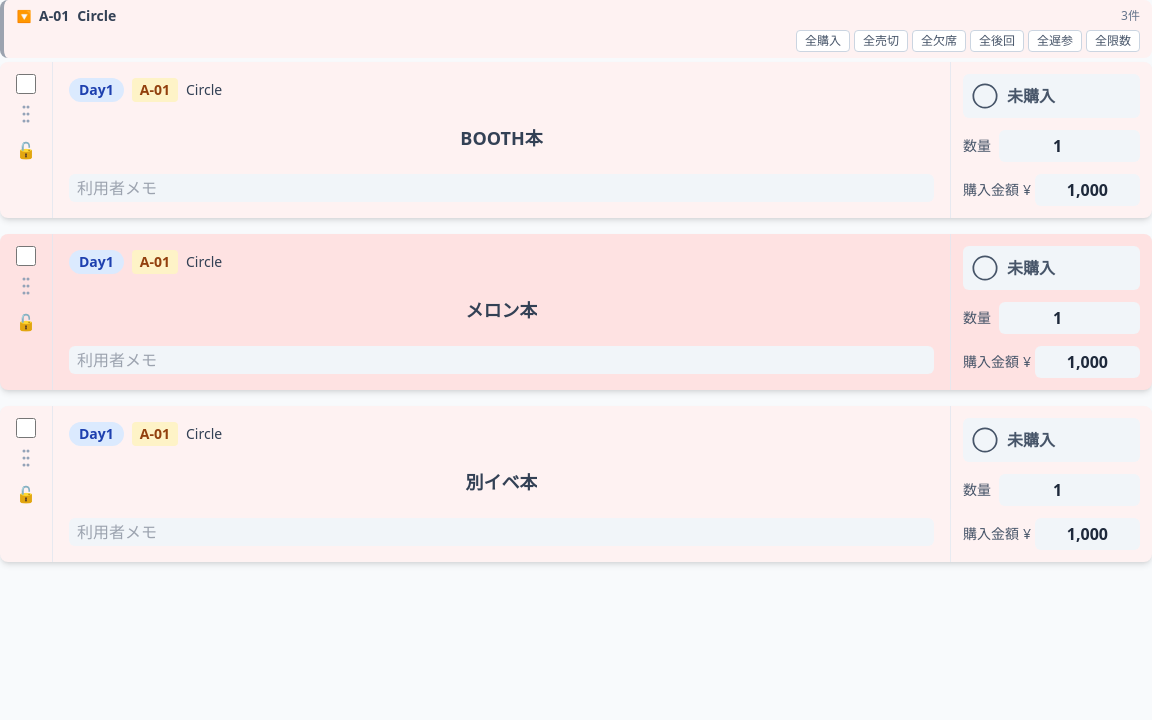
Test: ShoppingList purchase status control mode › records different post-event distribution answers for each bulk sold-out item
Click the button "全売切": (881, 41) [854,30,908,52]
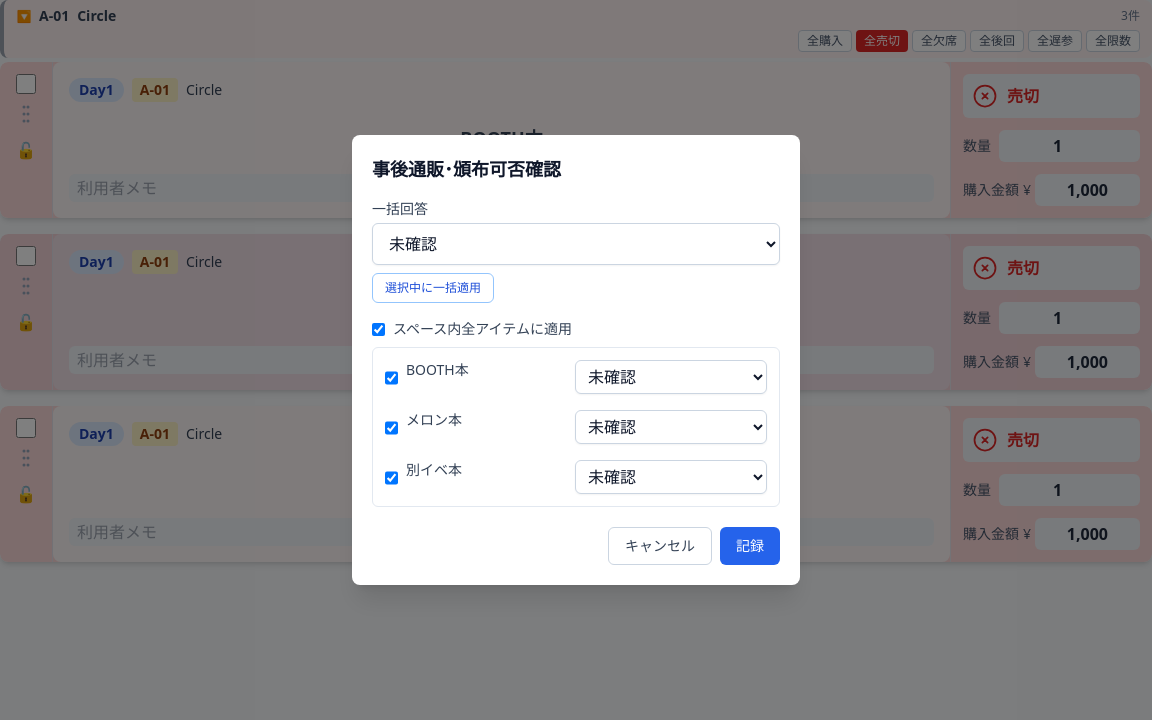
Check: the dialog "事後通販･頒布可否確認" is shown, box [352,135,800,585]
Select "BOOTH有" in the dropdown named "BOOTH本の回答内容": (671, 377) [575,360,767,394]
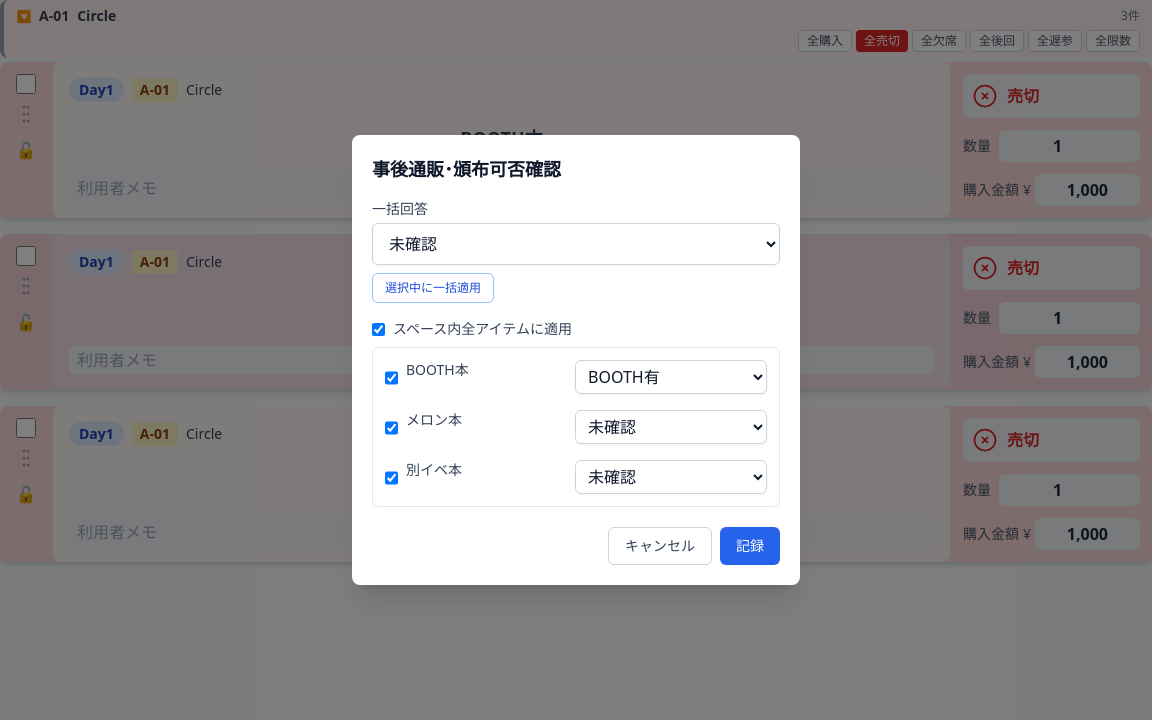
Select "通販有(メロン等)" in the dropdown named "メロン本の回答内容": (671, 427) [575,410,767,444]
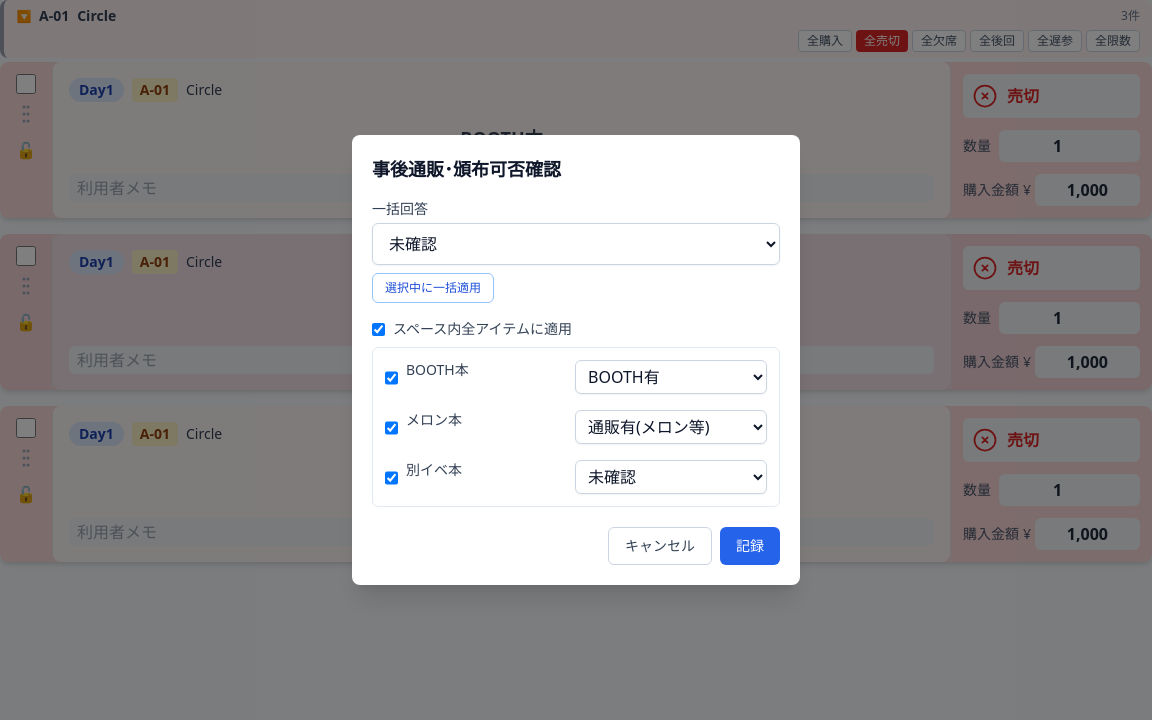
Select "別イベント頒布有" in the dropdown named "別イベ本の回答内容": (671, 477) [575,460,767,494]
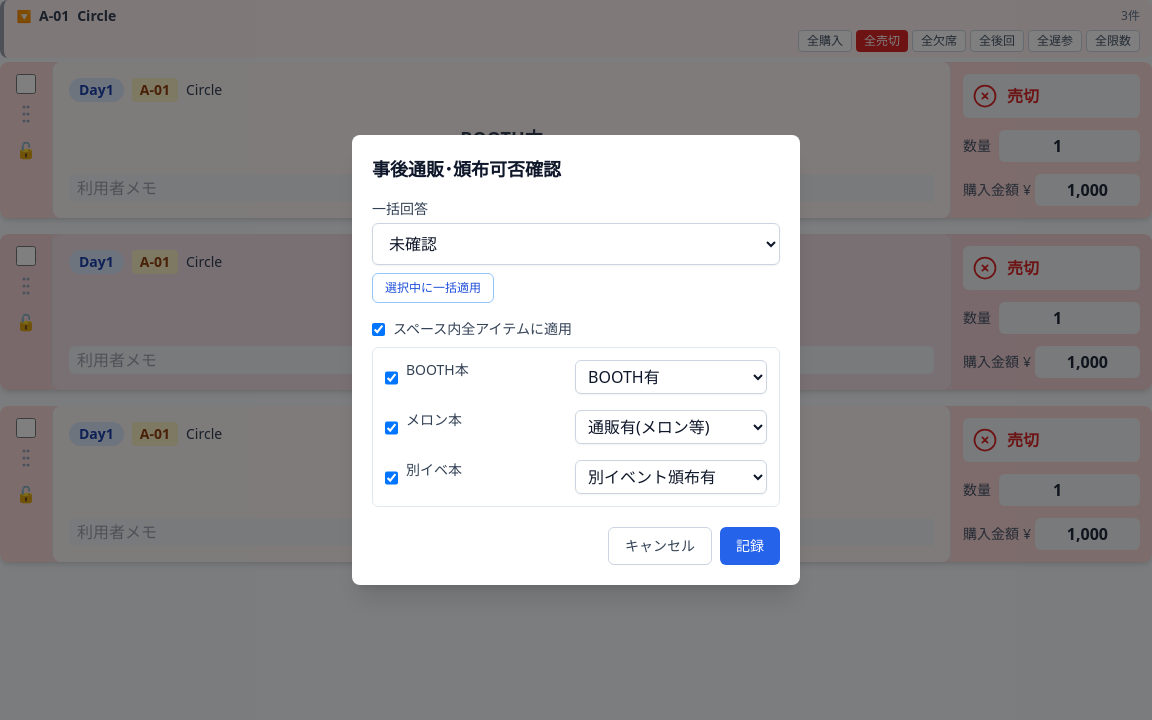
Click the button "記録": (750, 546) [720,527,780,565]
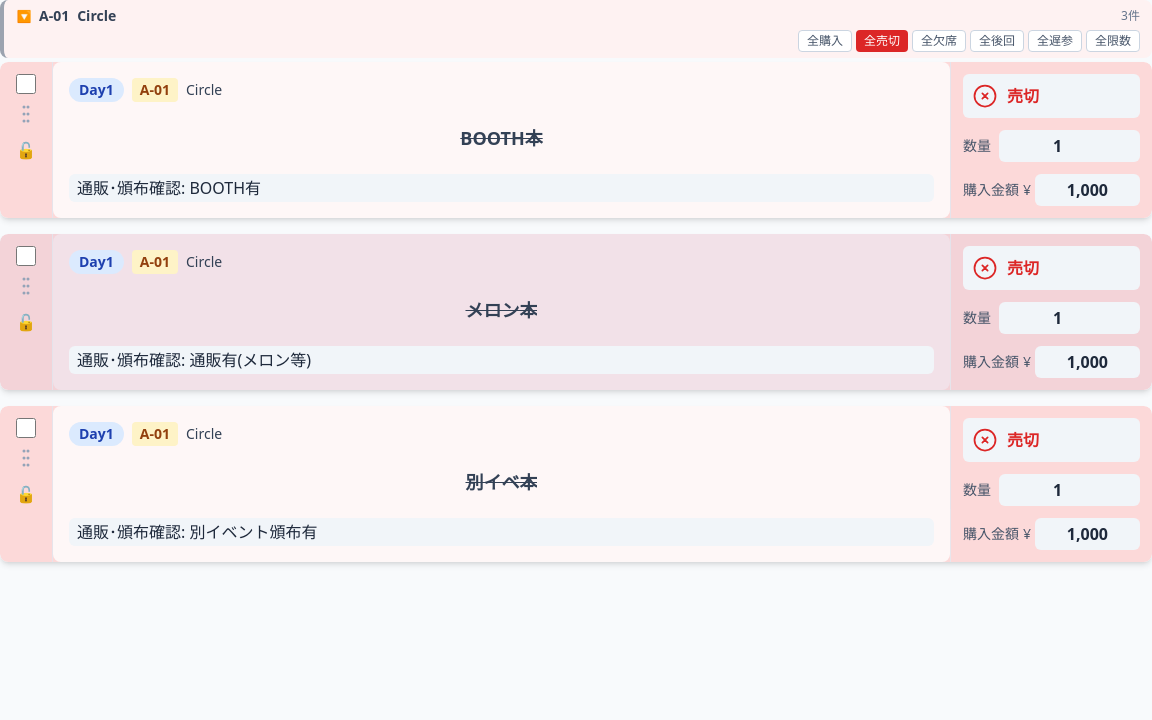
Check: the 1st field named "利用者メモ" holds "通販･頒布確認: BOOTH有", box [69,174,934,202]
Check: the 2nd field named "利用者メモ" holds "通販･頒布確認: 通販有(メロン等)", box [69,346,934,374]
Check: the 3rd field named "利用者メモ" holds "通販･頒布確認: 別イベント頒布有", box [69,518,934,546]
